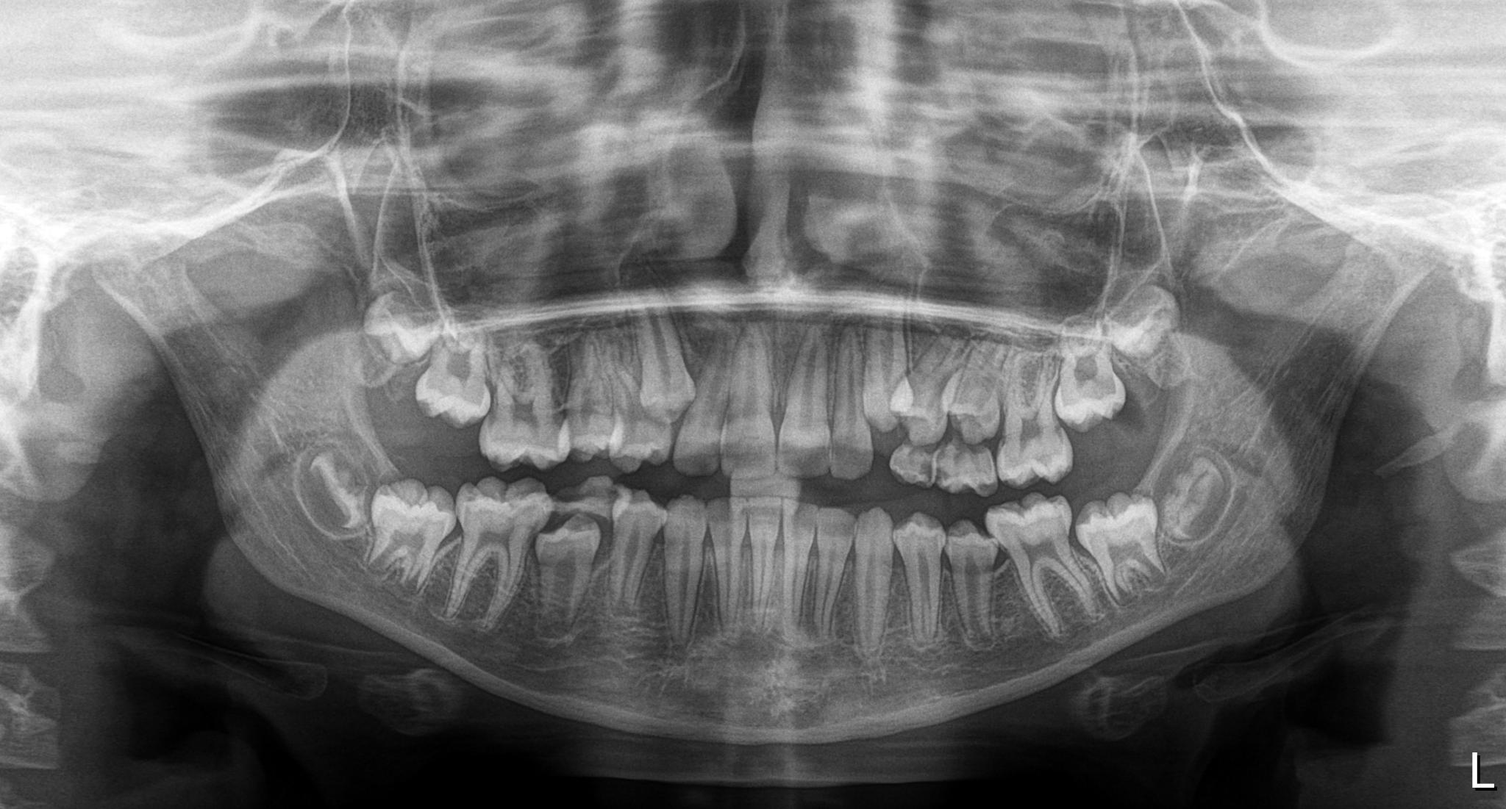Impacted Third Molar: (1171, 456, 1258, 554), (1121, 294, 1207, 382), (296, 437, 363, 542), (351, 305, 421, 402)
